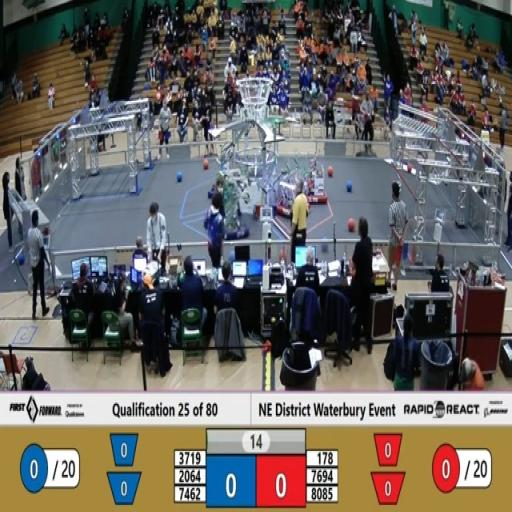robot: (204, 158, 237, 232), (222, 169, 252, 241), (298, 148, 328, 205), (277, 169, 308, 223), (208, 140, 236, 199)
